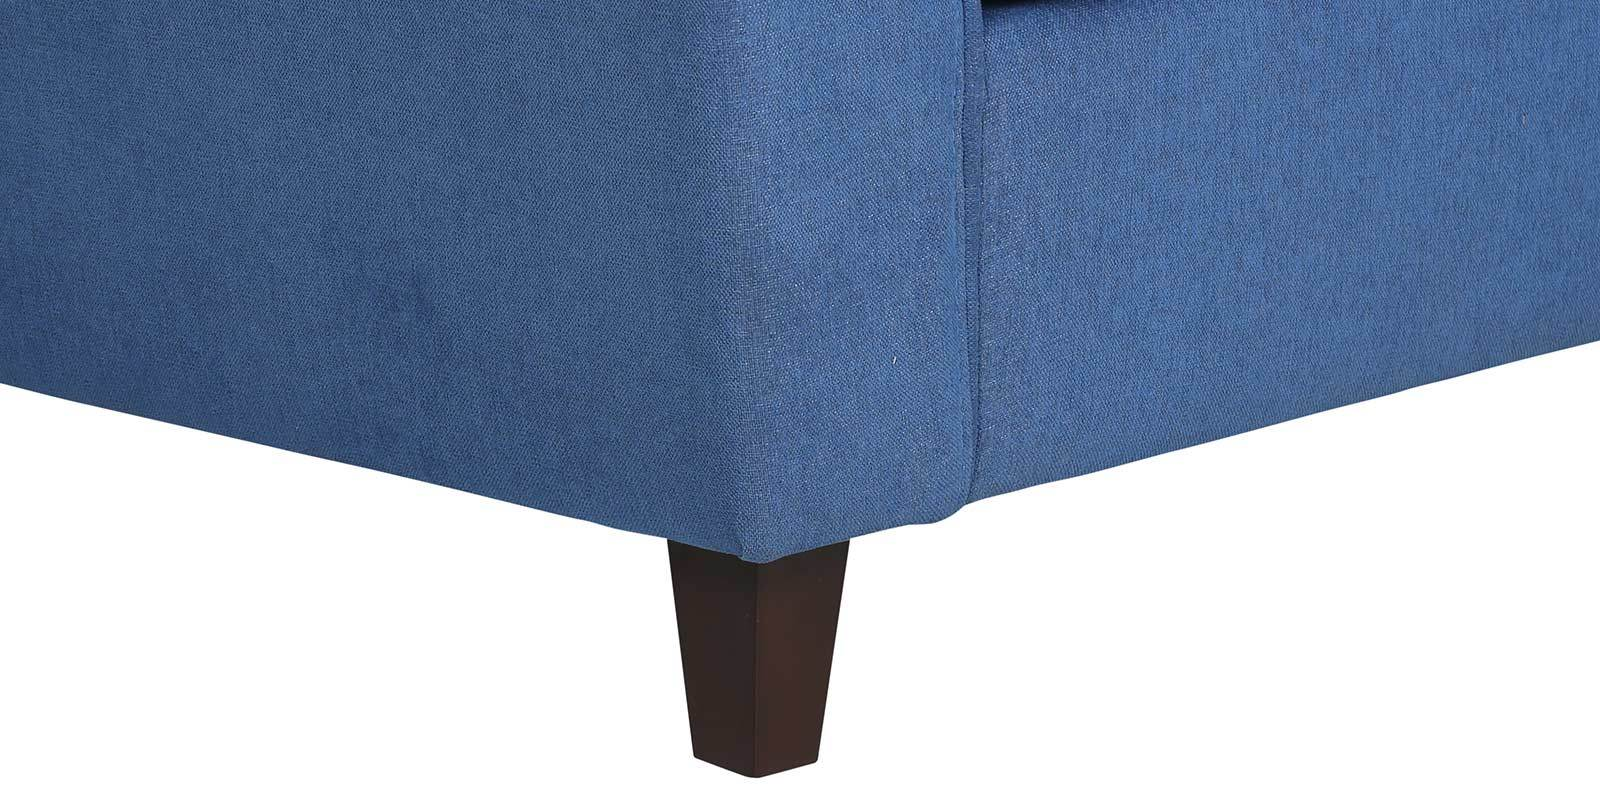Miranda Three Seater Sofa in Denim Blue Colour by CasaCraft: (1, 1, 1600, 774)
